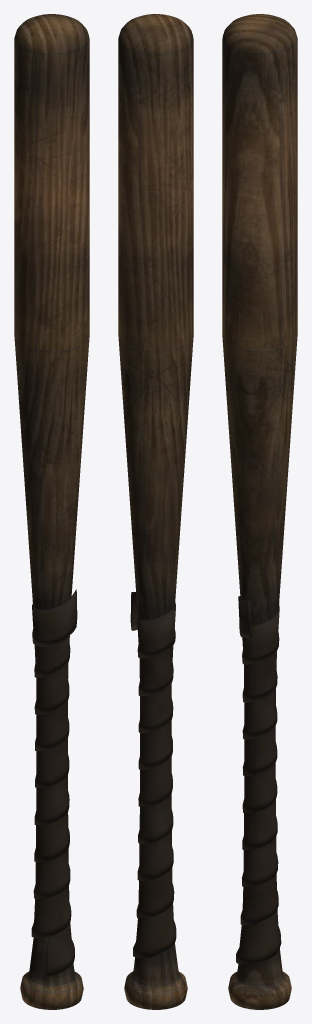
The model's file is baseball_bat.gltf.
3 views of the same model, side by side, from view 1: azimuth 30°, elevation 25°; view 2: azimuth 210°, elevation 25°; view 3: azimuth 270°, elevation 25° (orthographic).
Parts seen in each view (by area): view 1: baseball_bat; view 2: baseball_bat; view 3: baseball_bat.
Part boxes in pixels (box(x1,y1,x2,y2)): baseball_bat: box(14, 14, 89, 1009); baseball_bat: box(118, 14, 193, 1009); baseball_bat: box(222, 14, 297, 1009).
Size of the model in its own units: 0.0635 by 0.9132 by 0.0635.
Materials: 1 (1 with a texture image).
